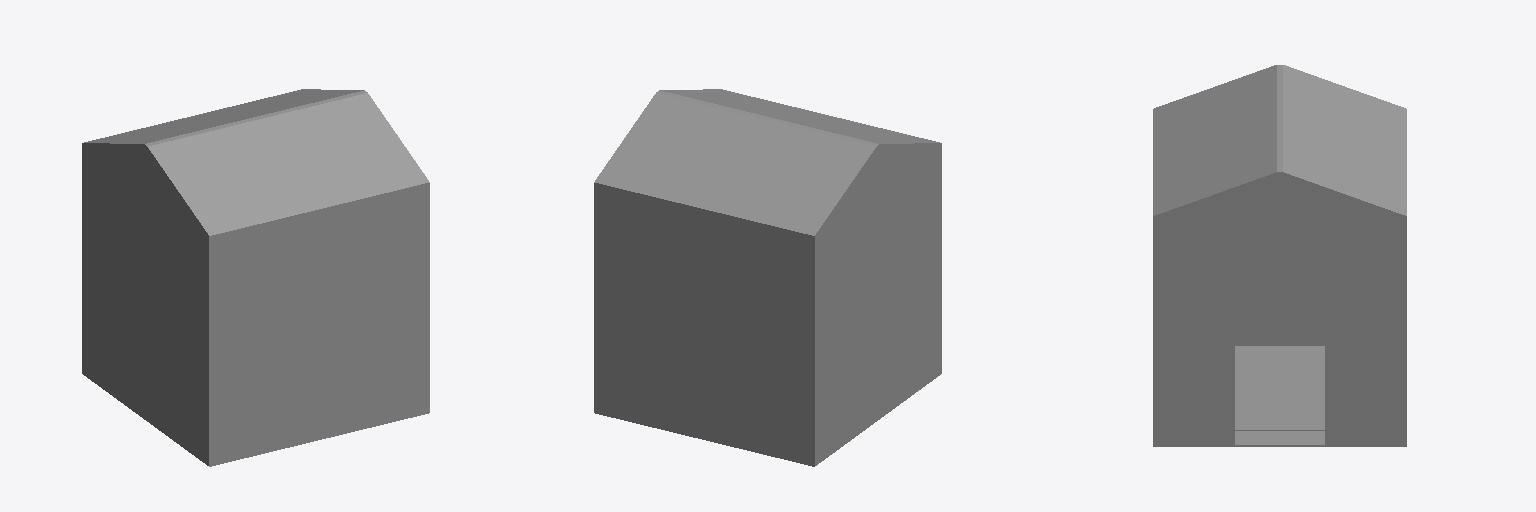
The model's file is haus.obj.
3 renders of one model, left to right at view 1: azimuth 30°, elevation 25°; view 2: azimuth 150°, elevation 25°; view 3: azimuth 270°, elevation 25°, orthographic.
Visible parts, largest first — view 1: Cube.001; view 2: Cube.001; view 3: Cube.001.
Boxes of the visible parts, x1=… form: Cube.001: x1=82, y1=89, x2=429, y2=466; Cube.001: x1=594, y1=89, x2=941, y2=466; Cube.001: x1=1153, y1=65, x2=1406, y2=446.
Bounding box in the file's own units: 4 × 4.77 × 4.